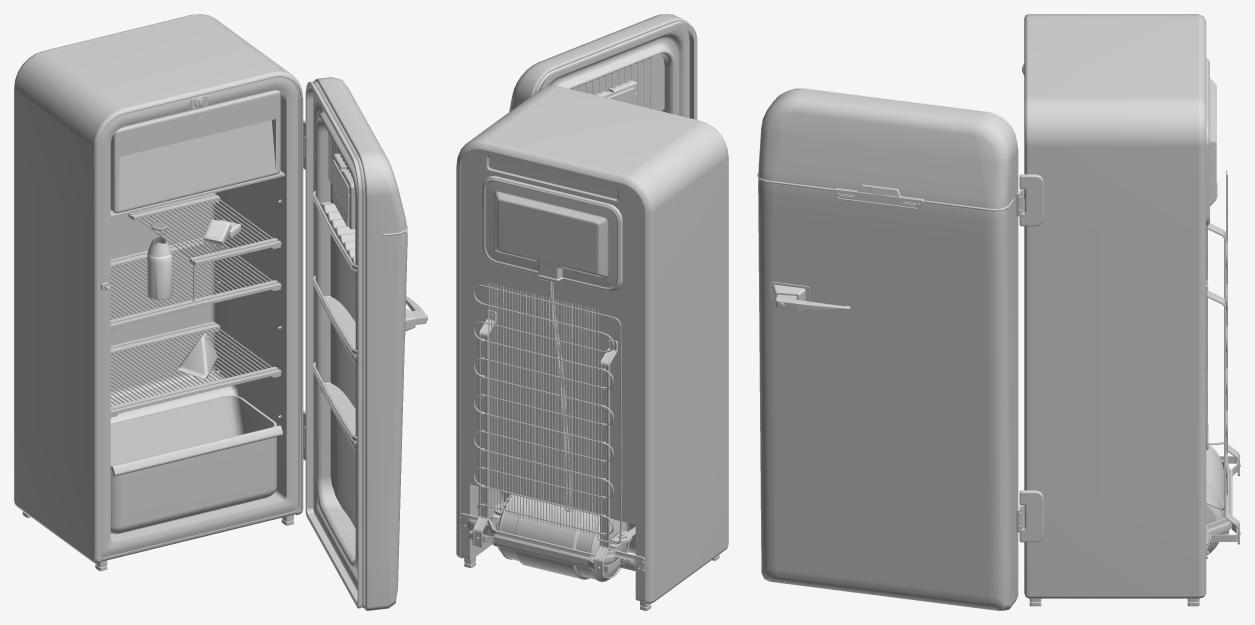
File: fridge.fbx
3 renders of one model, left to right at view 1: azimuth 30°, elevation 25°; view 2: azimuth 150°, elevation 25°; view 3: azimuth 270°, elevation 25°, orthographic. The views are drawn at different scales.
Visible parts, largest first — view 1: Plane.149, Plane.019, Cylinder.029, Cone.001; view 2: Plane.149, Plane.019; view 3: Plane.019, Plane.149.
Part boxes in pixels (x1,y1,x2,y2): Plane.149: (14, 14, 305, 571); Plane.019: (304, 77, 427, 610); Cylinder.029: (147, 222, 172, 299); Cone.001: (175, 333, 218, 379); Plane.149: (456, 86, 728, 610); Plane.019: (509, 14, 697, 119); Plane.019: (757, 88, 1023, 610); Plane.149: (1019, 14, 1240, 606).
Bounding box in the file's own units: 76.88 × 135 × 119.
